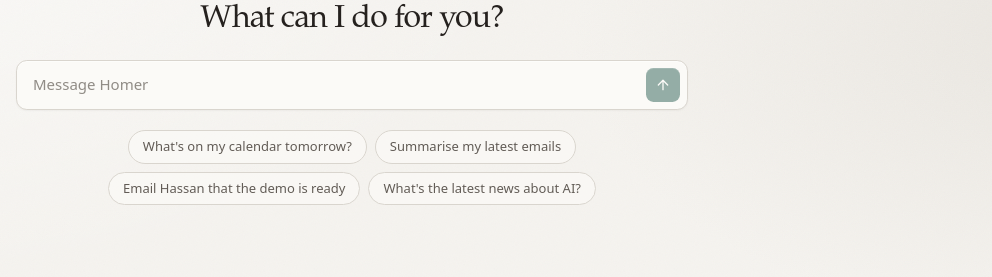
Test: ChatPage › keeps a message that failed to send and resends it on Try again
The width and height of the screenshot is (992, 277).
Later steps or results of the test are not shown.
Step 1. Type "Find my flight" into the text box labelled "Message Homer" → (331, 85), box [25,67,637,103]
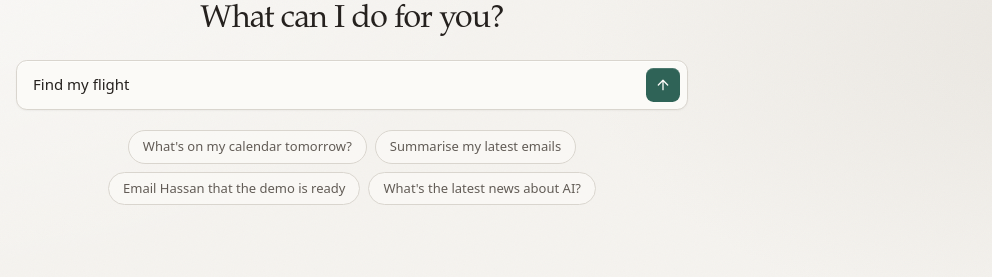
Step 2. Press Enter in the text box named "Message Homer", box [25,67,637,103]
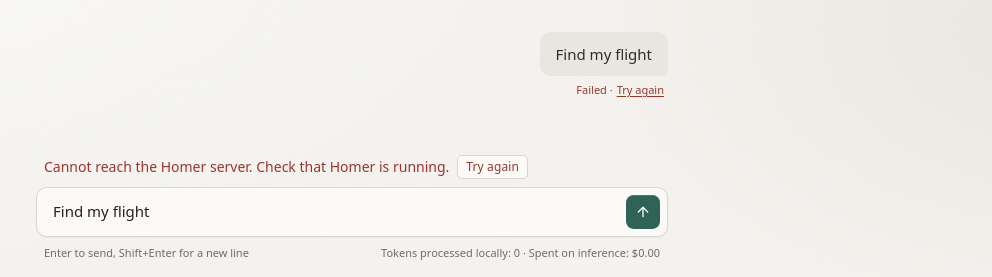
expect the text box named "Message Homer" holds "Find my flight": met, box [45,194,617,230]
expect the text "Failed · Try again" is shown: met, box [576,82,668,98]
expect the element with test id "message-user" shows "Find my flight": met, box [556,44,652,64]
